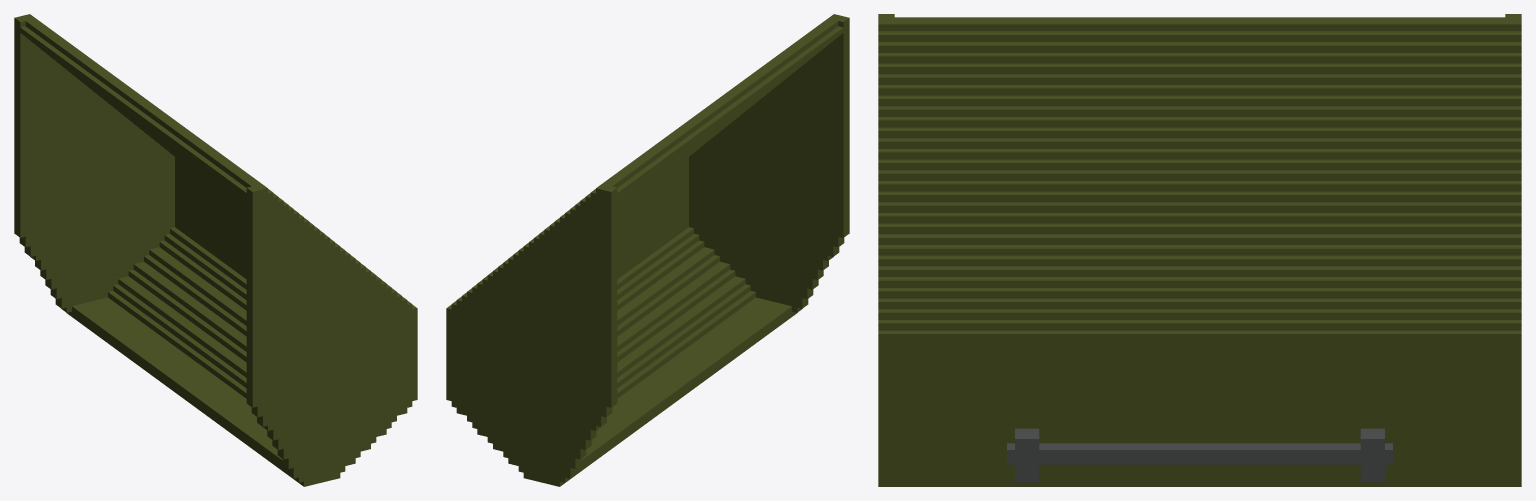
Rendered from apc_hull_nose.glb.
The picture shows the model from 3 angles, left to right: view 1: azimuth 30°, elevation 25°; view 2: azimuth 150°, elevation 25°; view 3: azimuth 270°, elevation 25°; orthographic projection. The views are drawn at different scales.
Visible parts, largest first — view 1: body:compound; view 2: body:compound; view 3: body:compound.
Part boxes in pixels (<box>): body:compound: <box>14,14,417,486</box>; body:compound: <box>446,14,849,486</box>; body:compound: <box>878,14,1521,486</box>.
Size of the model in its own units: 1.09 by 1.78 by 2.5.
